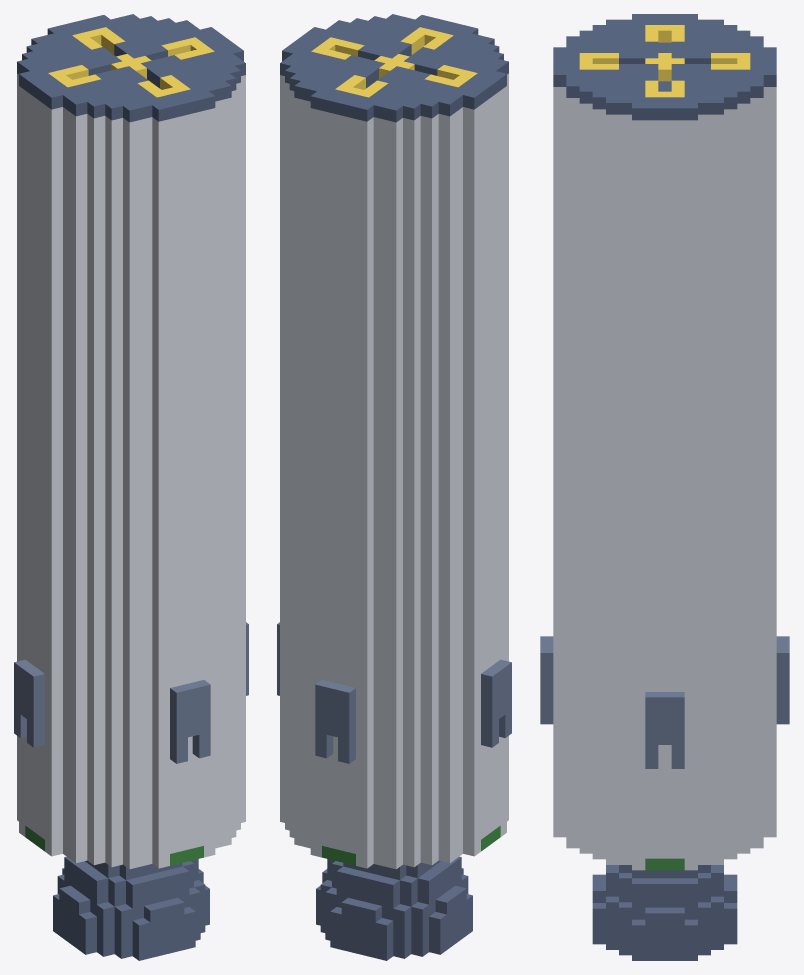
Rendered from pelicano_second_stage.glb.
The picture shows the model from 3 angles, left to right: view 1: azimuth 30°, elevation 25°; view 2: azimuth 150°, elevation 25°; view 3: azimuth 270°, elevation 25°; orthographic projection.
Visible parts, largest first — view 1: ObjObject.027; view 2: ObjObject.027; view 3: ObjObject.027.
Boxes of the visible parts, x1=… form: ObjObject.027: x1=14, y1=14, x2=248, y2=960; ObjObject.027: x1=277, y1=14, x2=511, y2=960; ObjObject.027: x1=540, y1=14, x2=789, y2=960.
Bounding box in the file's own units: 1.9 × 7.3 × 1.9.
1 material, 1 textured.
